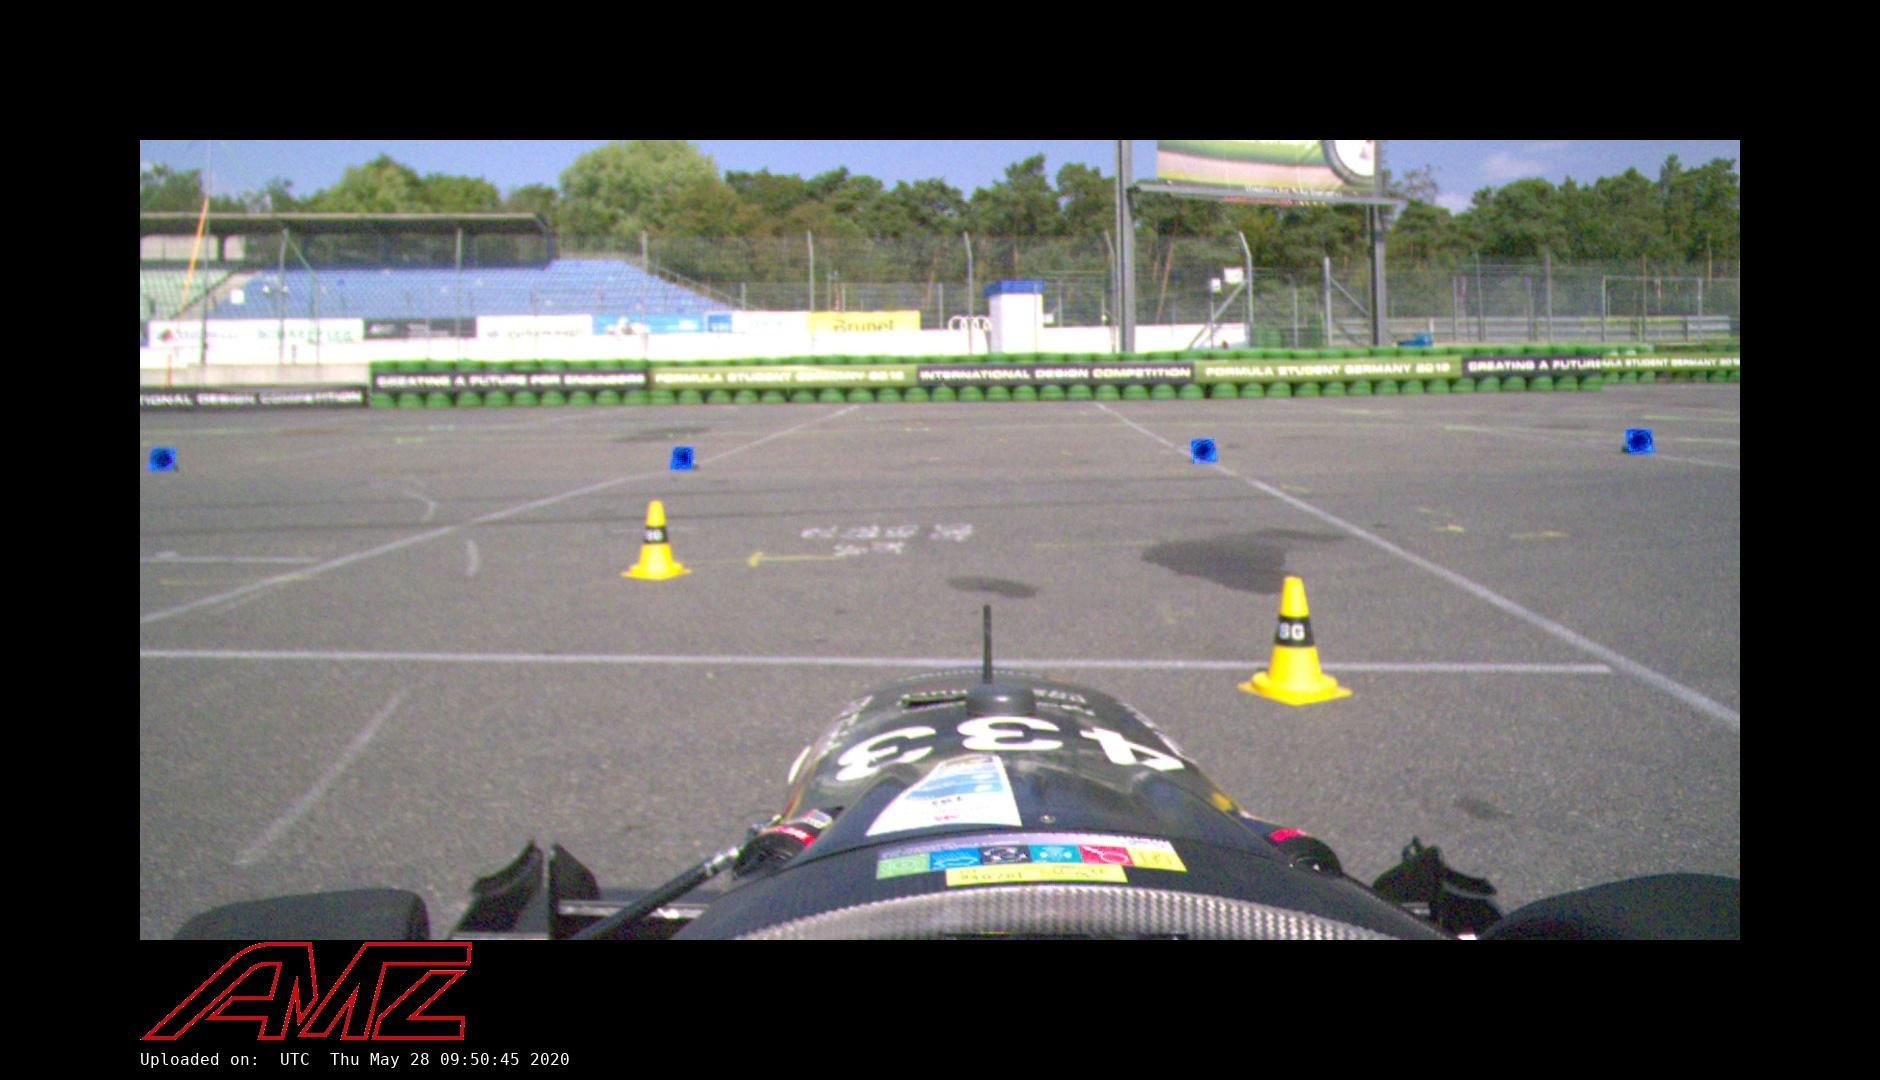blue_cone: (669, 446, 701, 472), (1189, 438, 1219, 464), (1626, 428, 1654, 453)
yellow_cone: (1237, 577, 1353, 705), (621, 500, 691, 580)
